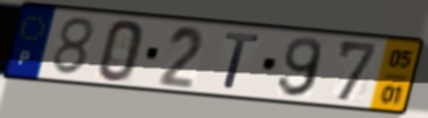0: (95, 18, 145, 84)
2: (154, 24, 207, 91)
7: (335, 38, 382, 104)
8: (48, 15, 97, 78)
9: (276, 36, 326, 99)
T: (220, 30, 263, 91)
